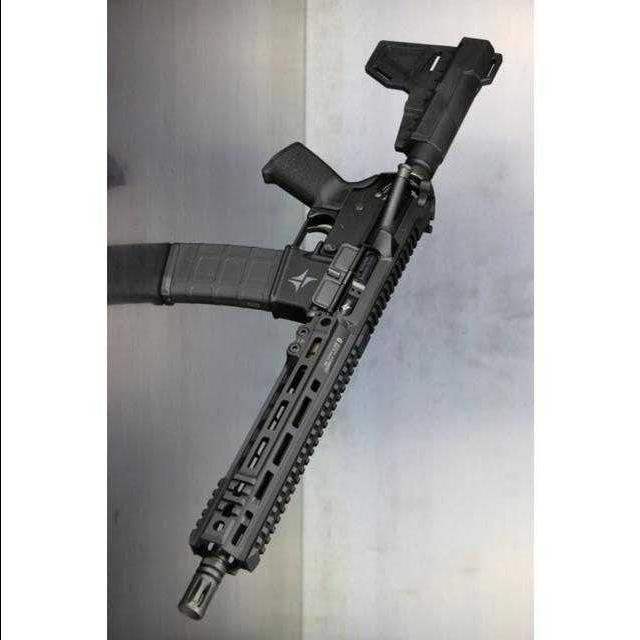heavyweapon: (83, 24, 522, 633)
